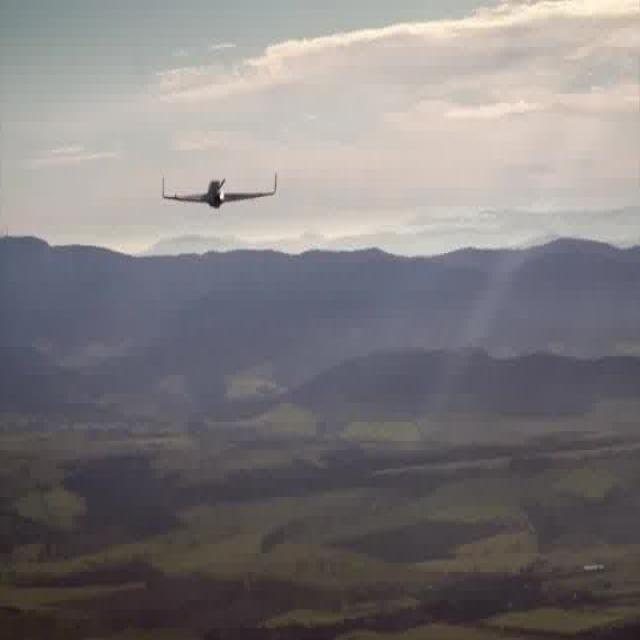iha: (192, 167, 248, 216)
